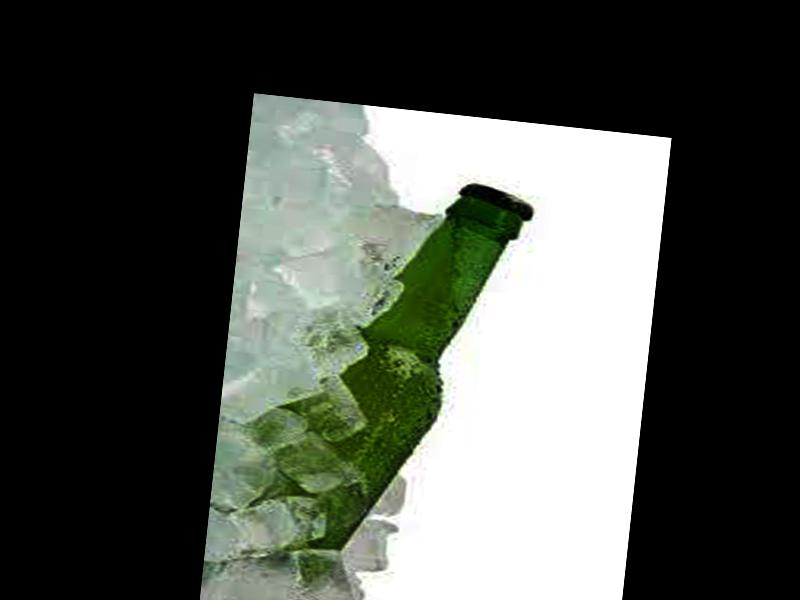Beer: (283, 163, 532, 596)
